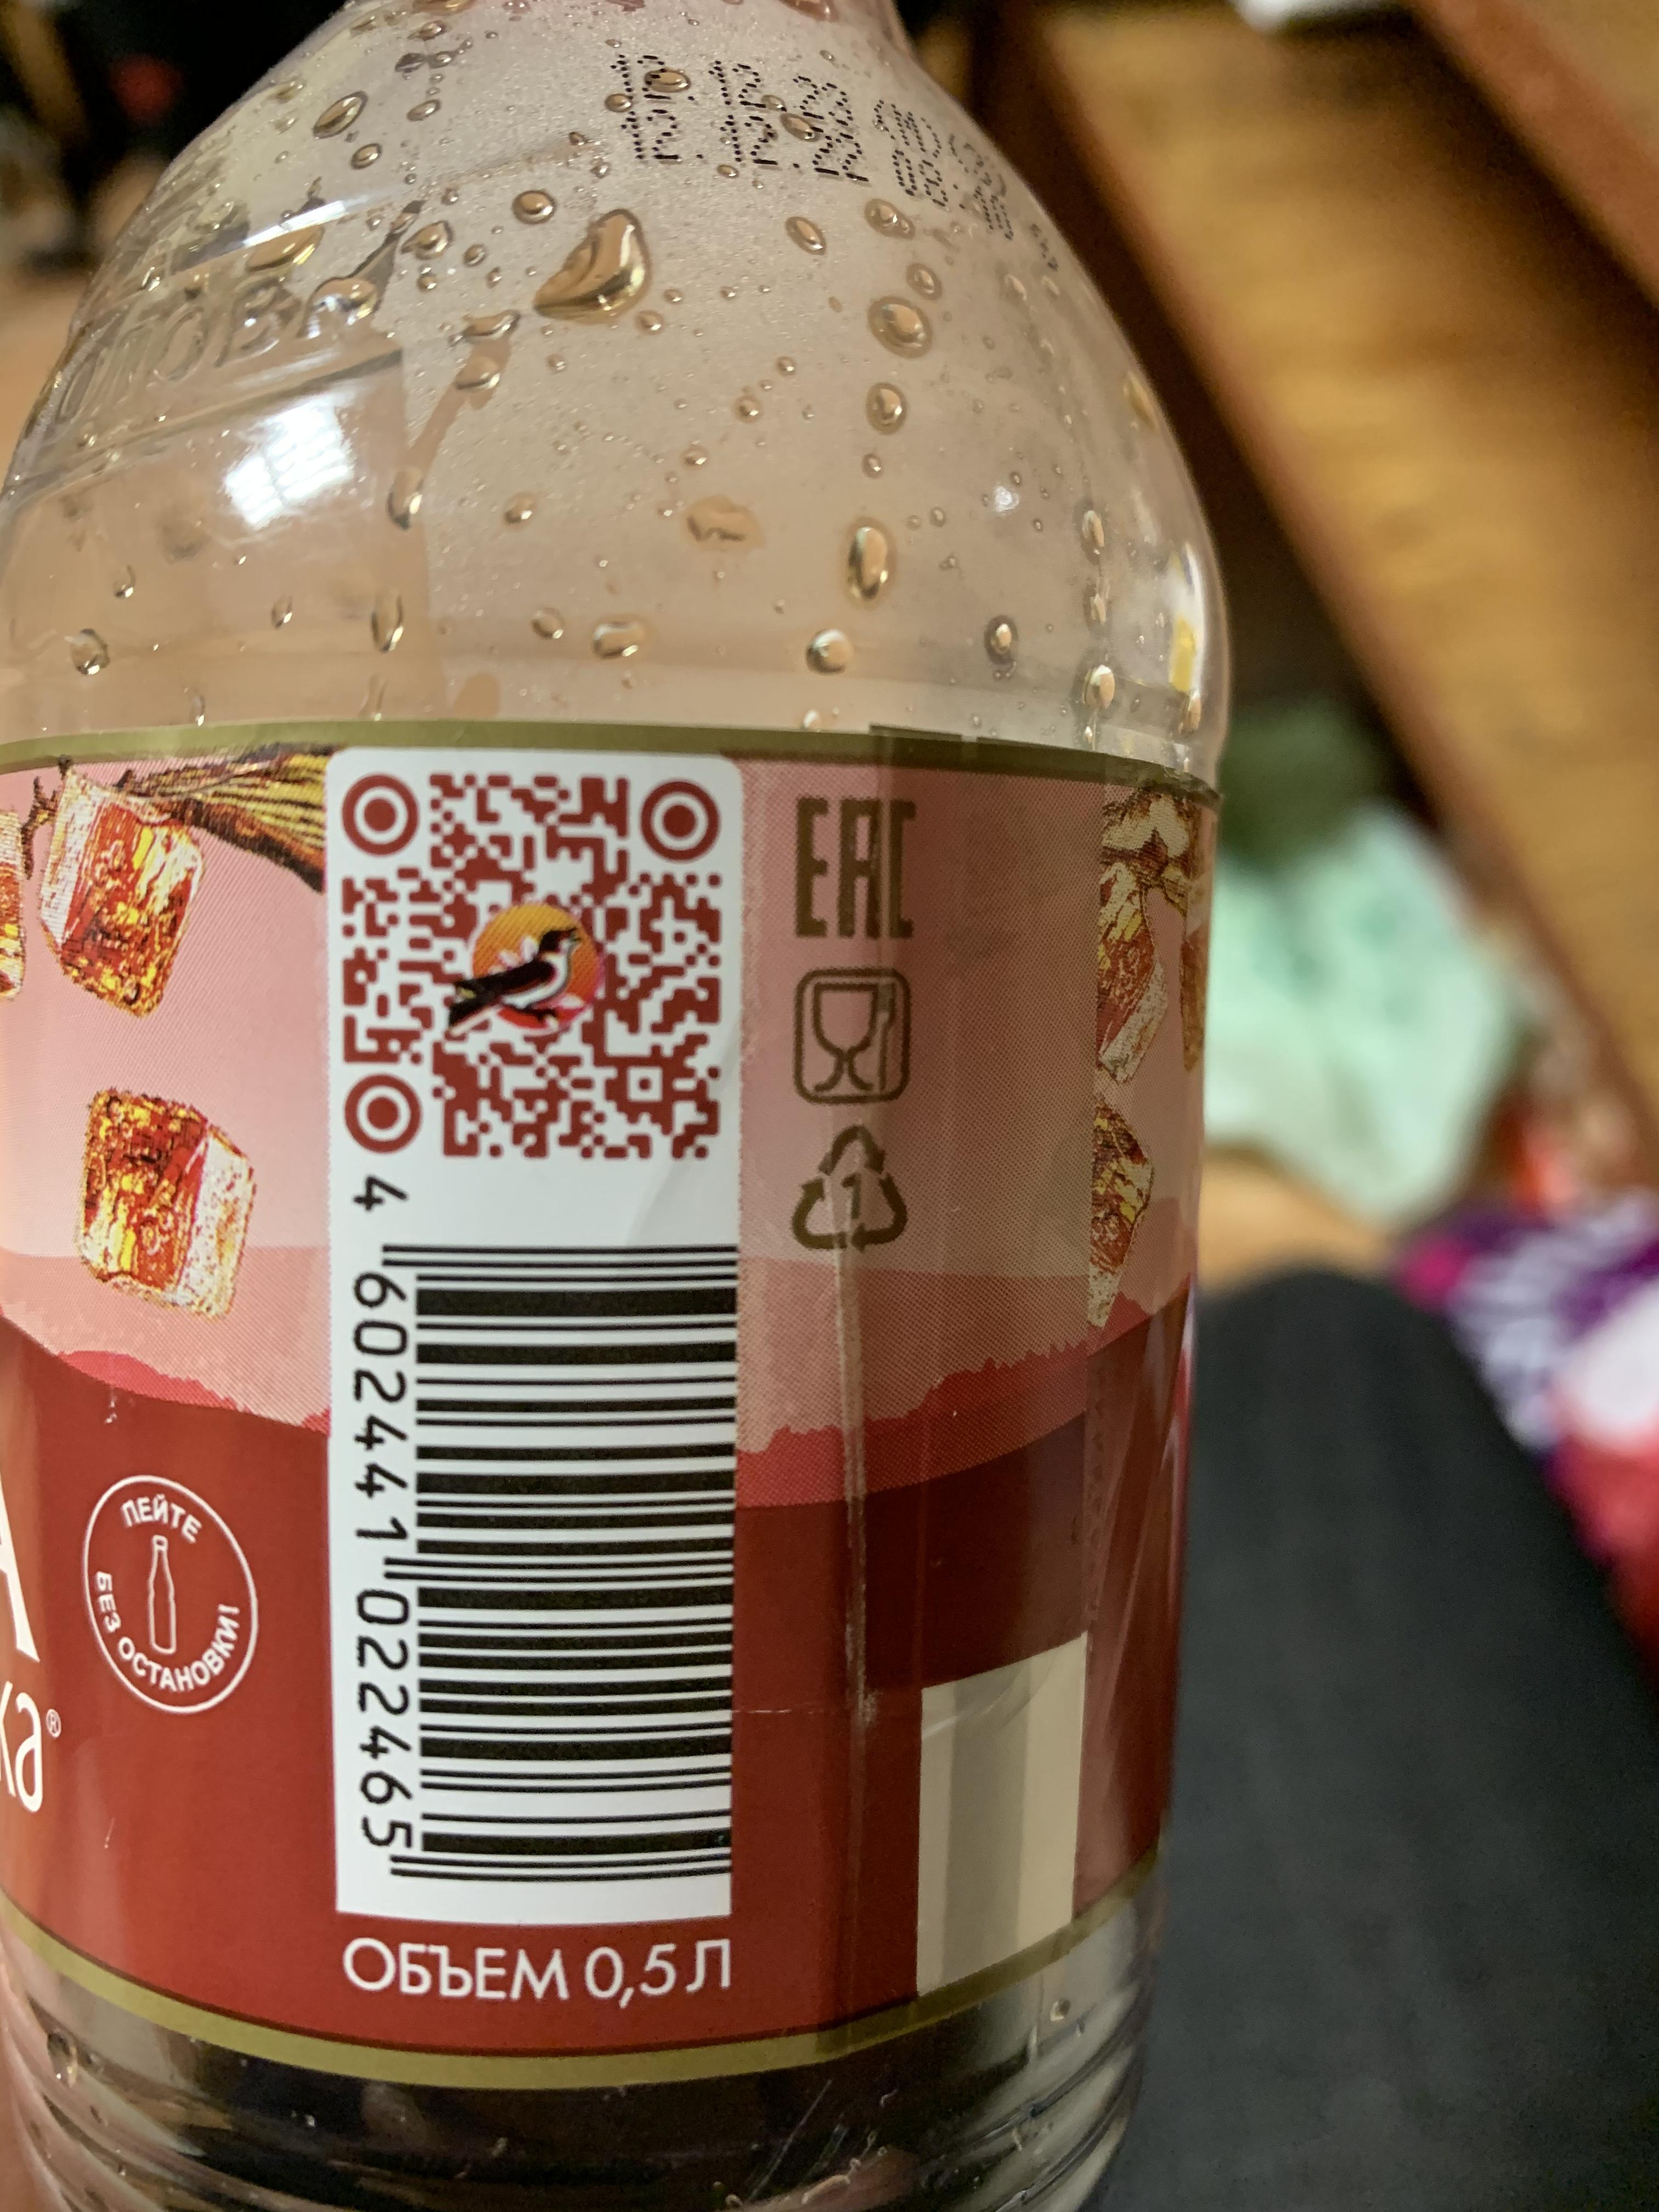qrcode: (342, 763, 725, 1163)
